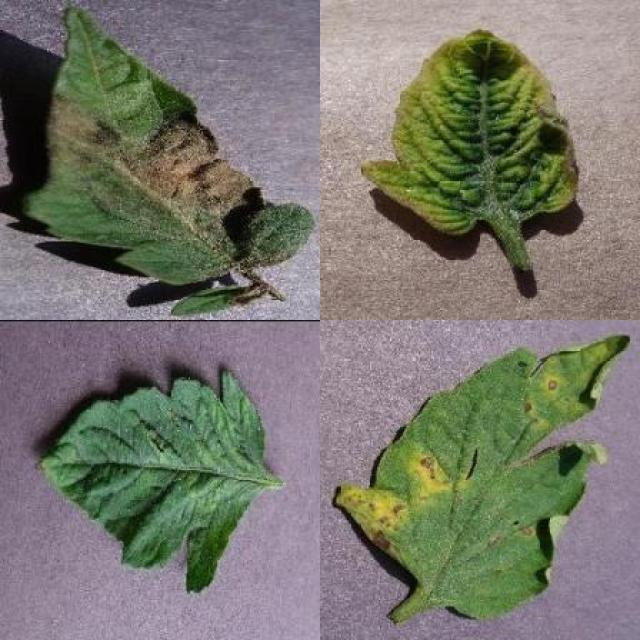Late Blight: (26, 5, 316, 288)
Mosaic Virus: (36, 366, 270, 596)
Septoria: (337, 333, 632, 620)
Yellow Leaf Curl Virus: (359, 30, 581, 237)
